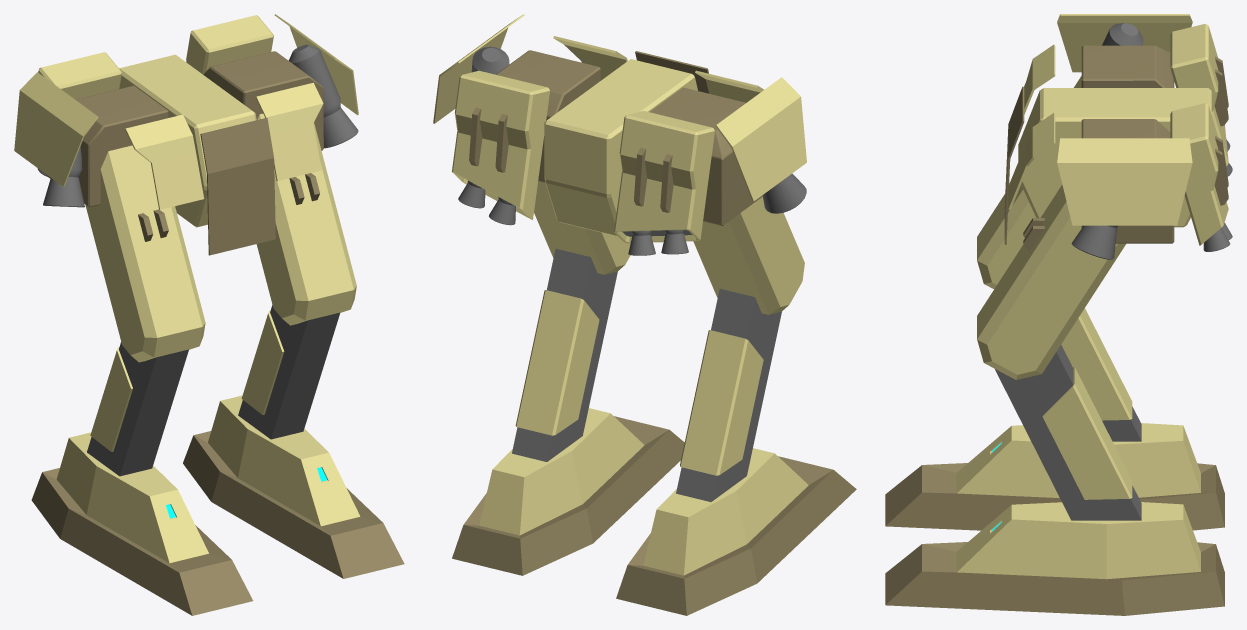
File: LegsModel.fbx
3 renders of one model, left to right at view 1: azimuth 30°, elevation 25°; view 2: azimuth 150°, elevation 25°; view 3: azimuth 270°, elevation 25°, orthographic. The views are drawn at different scales.
Visible parts, largest first — view 1: pasted__pCube48, pasted__pCube47, pasted__pCube37, pasted__pCube31, pasted__pasted__pCube36, pasted__pasted__pCube32, pasted__pCube38, pasted__pCube32, pasted__pPlane1, pasted__pasted__pCube40, pasted__pPlane4, pasted__pPlane3 (+9 smaller); view 2: pasted__pCube48, pasted__pCube47, pasted__pCube33 (×2), pasted__pasted__pCube32, pasted__pCube39, pasted__pCube43, pasted__pCube37, pasted__pPlane1, pasted__pCube38, pasted__pCube32, pasted__pasted__pCube40, pasted__pasted__pCube39 (+11 smaller); view 3: pasted__pCube47, pasted__pCube48, pasted__pCube31, pasted__pPlane2, pasted__pCube33 (×2), pasted__pasted__pCube32, pasted__pCube32, pasted__pCube43, pasted__pasted__pCube40, pasted__pPlane1, pasted__pCube37, pasted__pCube39 (+9 smaller).
Part boxes in pixels (x1=…): pasted__pCube48: x1=31, y1=432, x2=253, y2=615; pasted__pCube47: x1=183, y1=395, x2=404, y2=578; pasted__pCube37: x1=85, y1=145, x2=205, y2=362; pasted__pCube31: x1=256, y1=113, x2=356, y2=325; pasted__pasted__pCube36: x1=200, y1=118, x2=275, y2=255; pasted__pasted__pCube32: x1=119, y1=54, x2=256, y2=227; pasted__pCube38: x1=87, y1=342, x2=188, y2=476; pasted__pCube32: x1=238, y1=305, x2=339, y2=439; pasted__pPlane1: x1=14, y1=72, x2=98, y2=186; pasted__pasted__pCube40: x1=46, y1=85, x2=168, y2=207; pasted__pPlane4: x1=125, y1=114, x2=204, y2=209; pasted__pPlane3: x1=255, y1=82, x2=323, y2=180; pasted__pCube48: x1=616, y1=448, x2=856, y2=615; pasted__pCube47: x1=452, y1=408, x2=684, y2=575; pasted__pCube33 (×2): x1=515, y1=290, x2=763, y2=475; pasted__pasted__pCube32: x1=544, y1=59, x2=697, y2=236; pasted__pCube39: x1=614, y1=111, x2=714, y2=243; pasted__pCube43: x1=452, y1=70, x2=549, y2=219; pasted__pCube37: x1=693, y1=196, x2=804, y2=314; pasted__pPlane1: x1=715, y1=77, x2=806, y2=201; pasted__pCube38: x1=676, y1=288, x2=781, y2=501; pasted__pCube32: x1=512, y1=248, x2=617, y2=461; pasted__pasted__pCube40: x1=649, y1=87, x2=762, y2=225; pasted__pasted__pCube39: x1=496, y1=50, x2=600, y2=182; pasted__pCube47: x1=885, y1=502, x2=1224, y2=615; pasted__pCube48: x1=885, y1=423, x2=1224, y2=530; pasted__pCube31: x1=977, y1=185, x2=1125, y2=379; pasted__pPlane2: x1=1057, y1=138, x2=1192, y2=225; pasted__pCube33 (×2): x1=1042, y1=308, x2=1132, y2=499; pasted__pasted__pCube32: x1=1018, y1=88, x2=1211, y2=227; pasted__pCube32: x1=995, y1=345, x2=1141, y2=520; pasted__pCube43: x1=1170, y1=103, x2=1228, y2=245; pasted__pasted__pCube40: x1=1081, y1=45, x2=1174, y2=87; pasted__pPlane1: x1=1057, y1=14, x2=1192, y2=72; pasted__pCube37: x1=977, y1=76, x2=1081, y2=288; pasted__pCube39: x1=1170, y1=23, x2=1228, y2=166.
Bounding box in the file's own units: 11.95 × 16.29 × 10.82.
